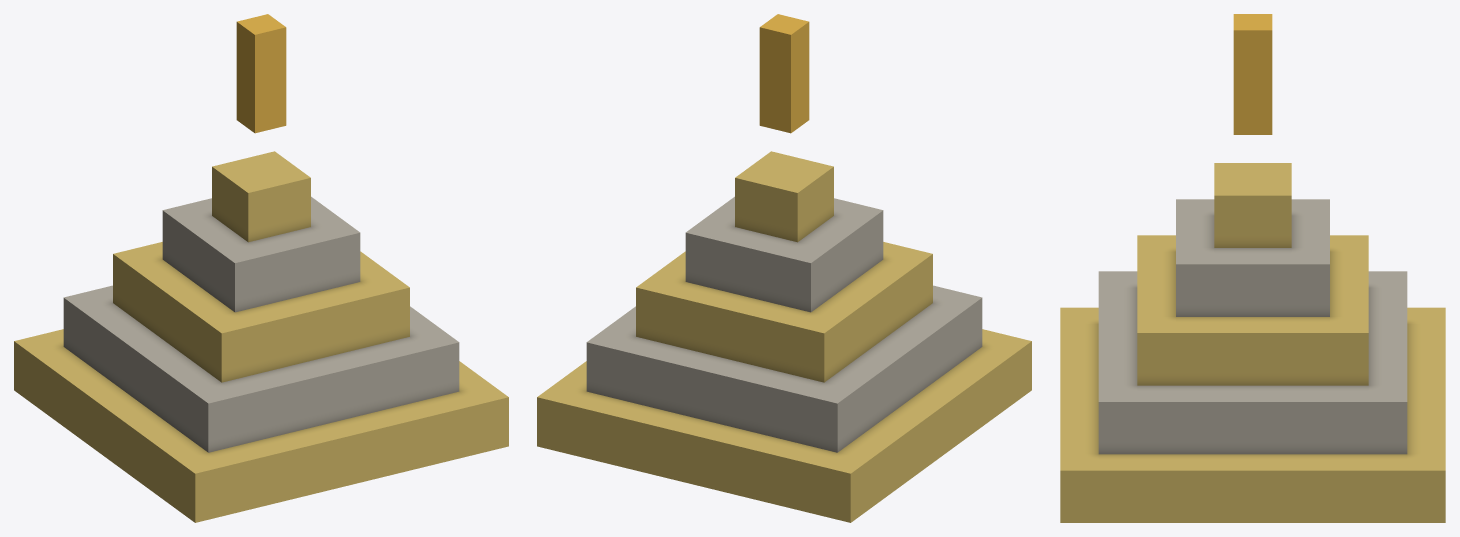
File: c_wonder.glb
The picture shows the model from 3 angles, left to right: view 1: azimuth 30°, elevation 25°; view 2: azimuth 150°, elevation 25°; view 3: azimuth 270°, elevation 25°; orthographic projection. The views are drawn at different scales.
Visible parts, largest first — view 1: c_wonder_body; view 2: c_wonder_body; view 3: c_wonder_body.
Part boxes in pixels (x1,y1,x2,y2): c_wonder_body: (14, 14, 508, 522); c_wonder_body: (537, 14, 1031, 522); c_wonder_body: (1060, 14, 1445, 522).
Bounding box in the file's own units: 1.25 × 1.5 × 1.25.
Materials: 1 (1 with a texture image).
